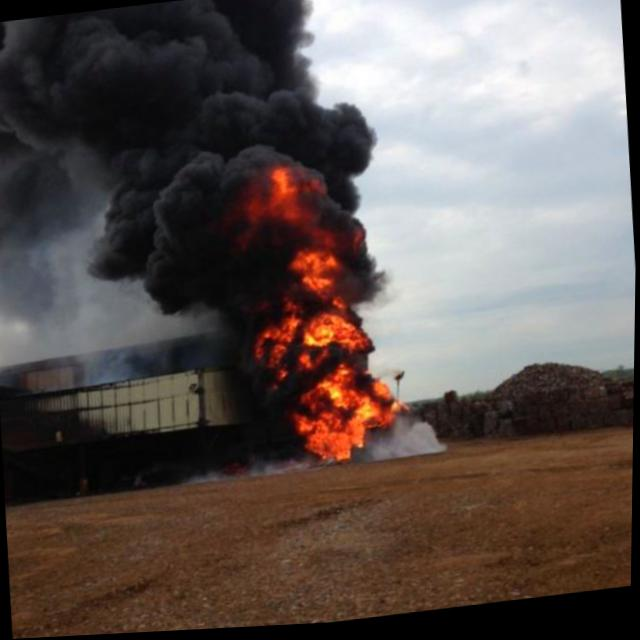fire: (249, 312, 378, 375), (295, 376, 365, 468), (297, 262, 346, 318), (358, 379, 406, 432), (262, 167, 295, 223)
smoke: (0, 0, 379, 197), (0, 170, 275, 361), (296, 158, 372, 260), (367, 423, 450, 465)
